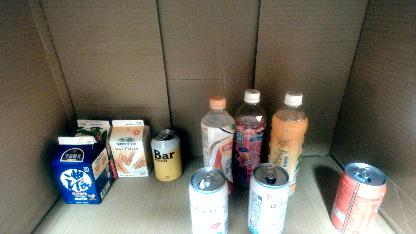Can: (330, 162, 388, 234), (247, 164, 289, 234), (189, 166, 229, 234), (150, 129, 184, 182)
Plastic Bottle: (266, 90, 308, 200), (232, 88, 268, 194), (200, 95, 234, 197)
